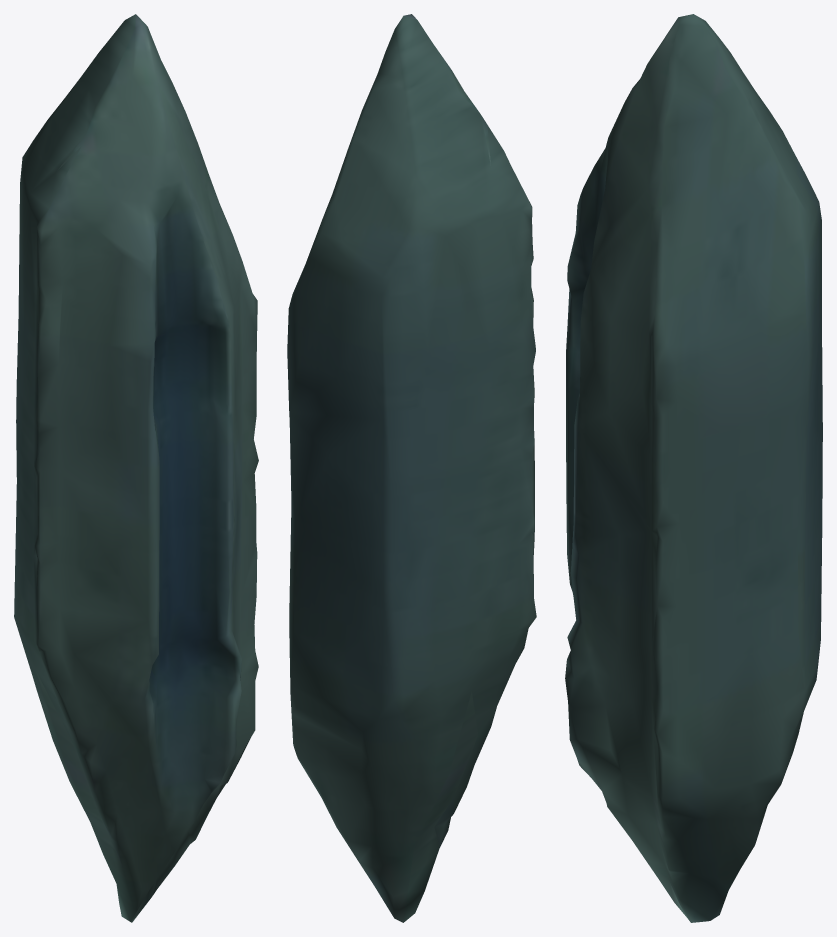
The model's file is prop_water_surface.glb.
3 renders of one model, left to right at view 1: azimuth 30°, elevation 25°; view 2: azimuth 150°, elevation 25°; view 3: azimuth 270°, elevation 25°, orthographic.
Parts seen in each view (by area): view 1: Mesh_0; view 2: Mesh_0; view 3: Mesh_0.
Boxes of the visible parts, bbox=[...] form: Mesh_0: bbox=[14, 14, 258, 922]; Mesh_0: bbox=[287, 14, 536, 922]; Mesh_0: bbox=[565, 14, 822, 922].
Bounding box in the file's own units: 0.5085 × 1.99 × 0.5102.
1 material, 1 textured.
